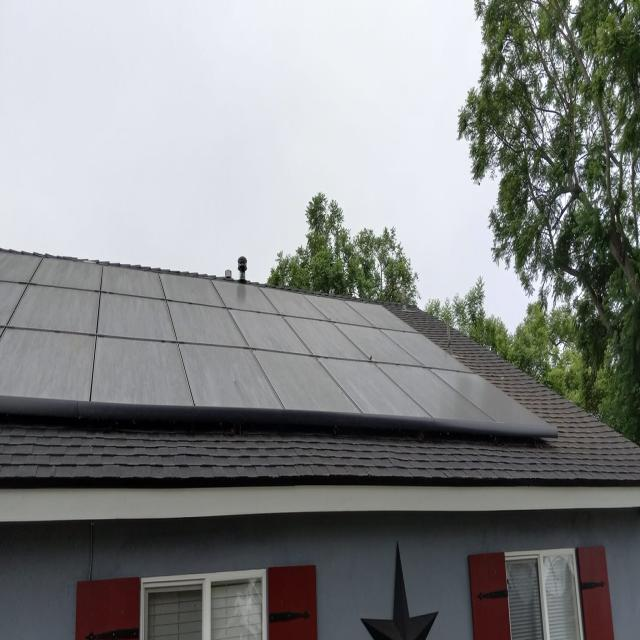dust-solar-panel: (0, 251, 555, 432)
